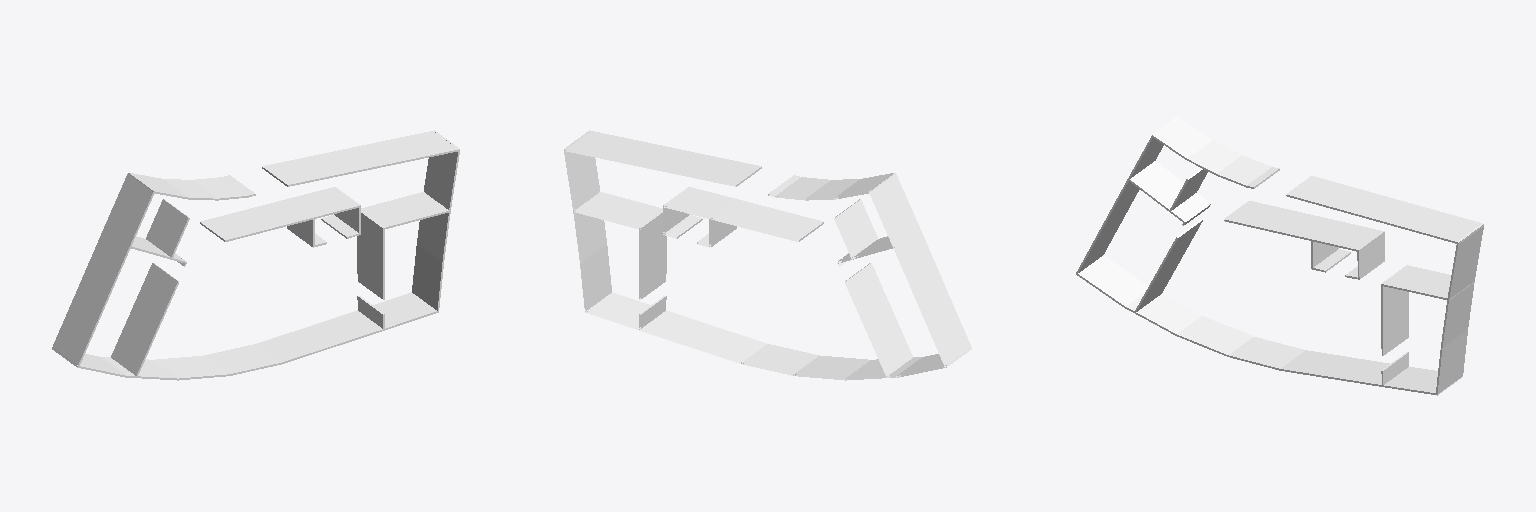
File: walls.obj
3 renders of one model, left to right at view 1: azimuth 30°, elevation 25°; view 2: azimuth 150°, elevation 25°; view 3: azimuth 330°, elevation 25°, orthographic.
Visible parts, largest first — view 1: walls; view 2: walls; view 3: walls.
Boxes of the visible parts, box(x1,y1,x2,y2) form: walls: box(52, 130, 459, 380); walls: box(564, 130, 971, 380); walls: box(1076, 116, 1483, 395).
Bounding box in the file's own units: 21.53 × 10.98 × 2.5.